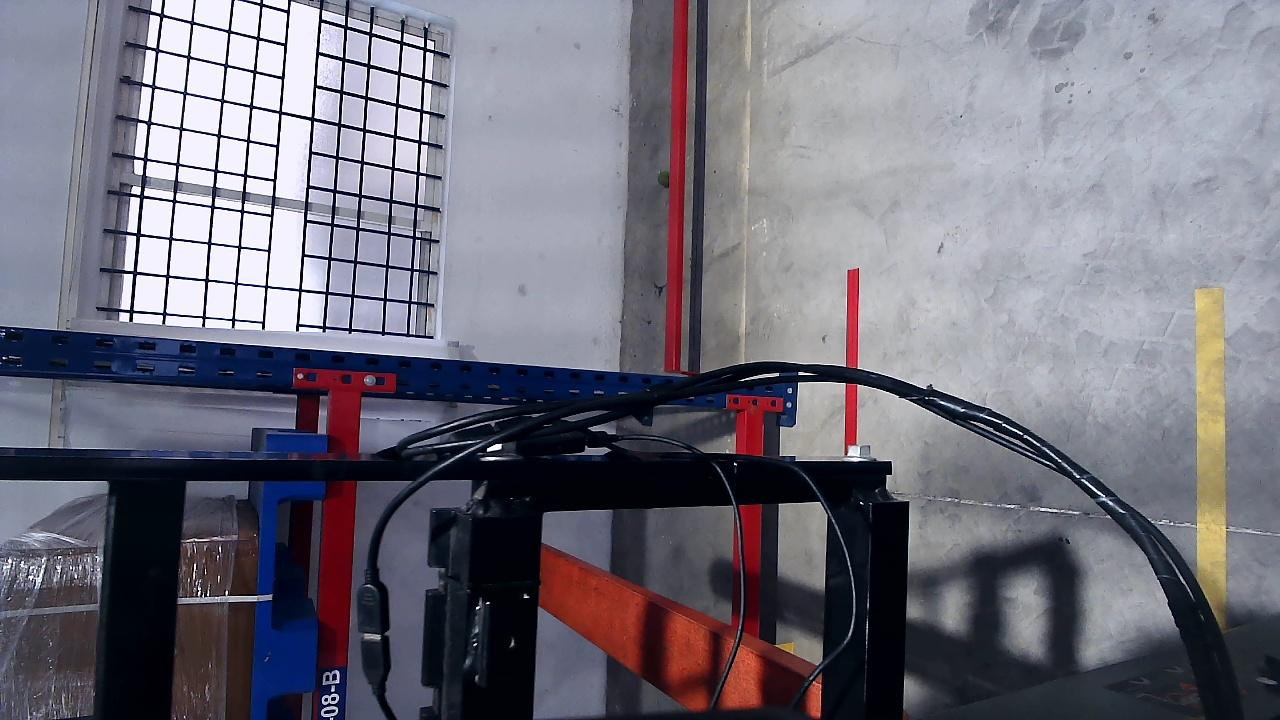h_rack: (311, 389, 368, 718), (731, 404, 769, 711)
red_line: (840, 267, 865, 443)
yellow_line: (1195, 285, 1227, 704)
